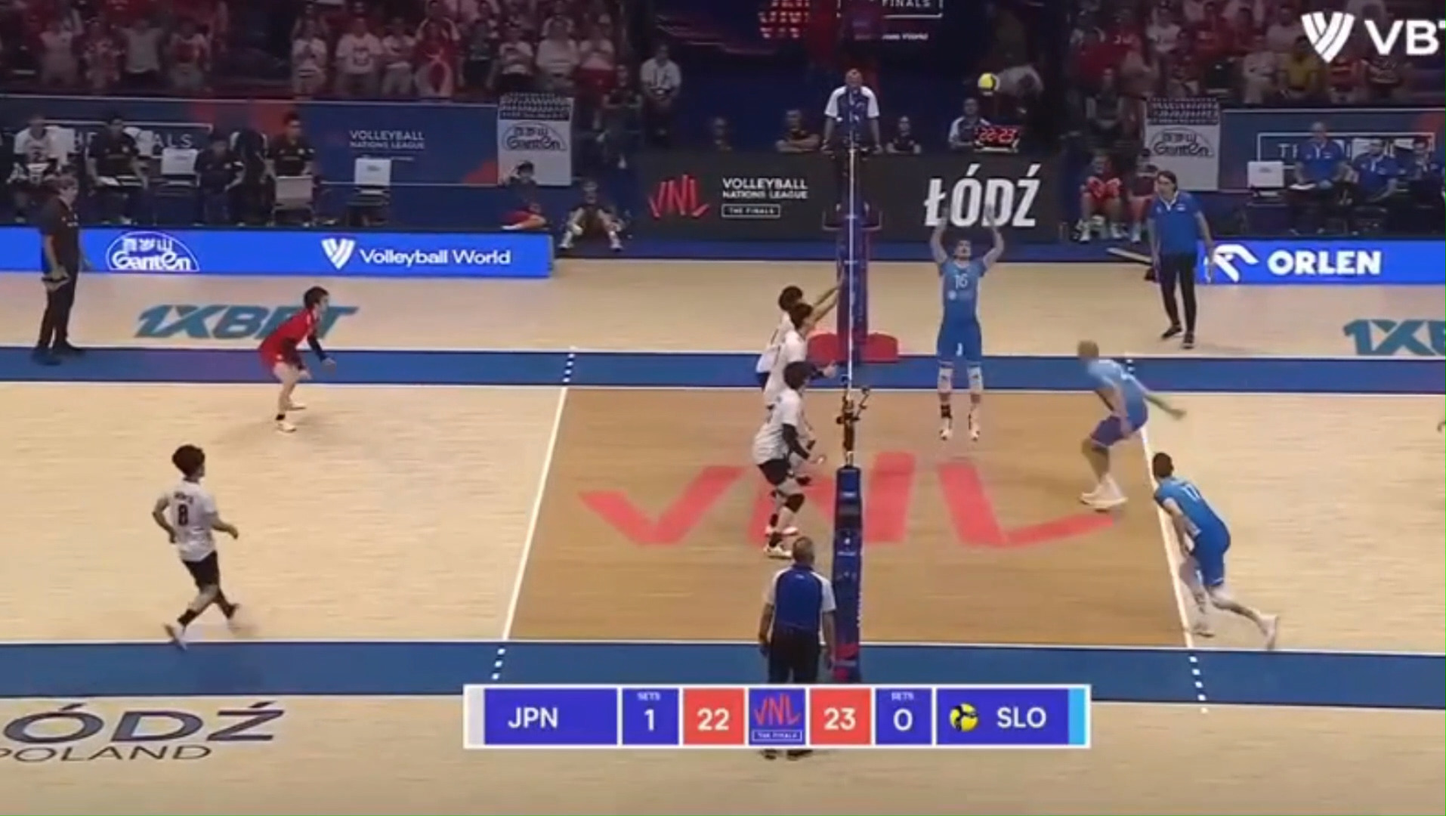ball: (977, 73, 999, 95)
player: (1151, 452, 1277, 648), (1077, 340, 1185, 511), (930, 211, 1004, 440)
player 1: (151, 444, 239, 646), (753, 360, 813, 557), (259, 286, 332, 432), (763, 301, 822, 407), (754, 285, 805, 388), (811, 289, 834, 308)
referee: (758, 536, 835, 684), (1148, 170, 1212, 348), (32, 175, 84, 363), (820, 69, 879, 229)
